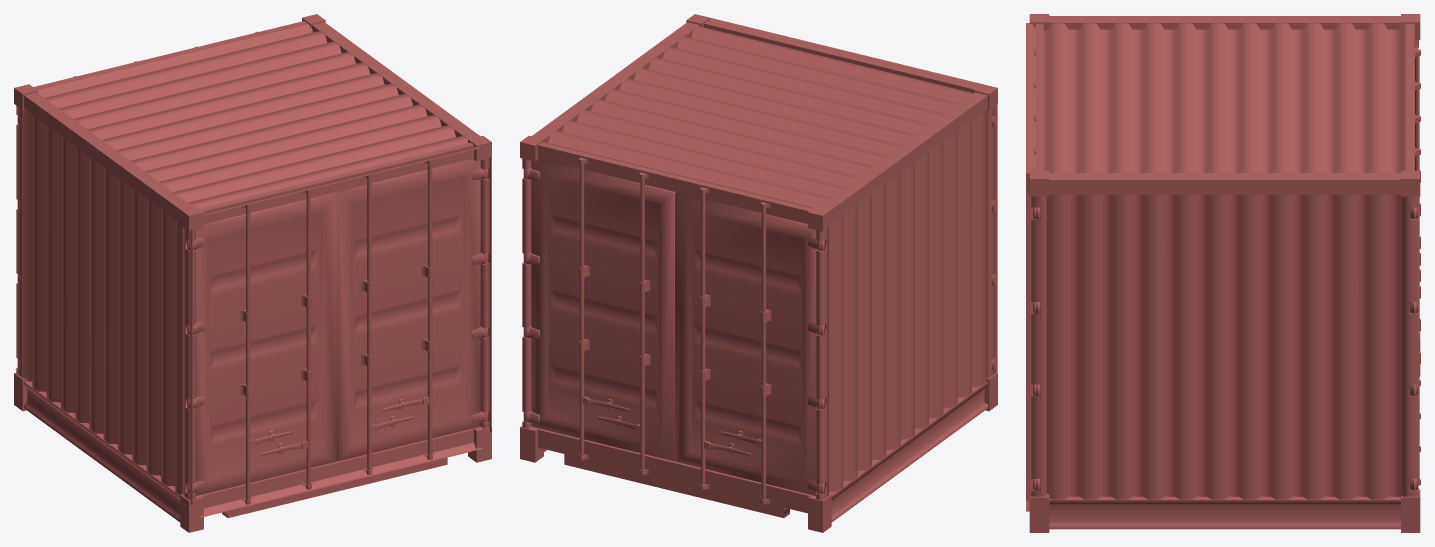
Rendered from shipping_container_sm.fbx.
3 renders of one model, left to right at view 1: azimuth 30°, elevation 25°; view 2: azimuth 150°, elevation 25°; view 3: azimuth 270°, elevation 25°, orthographic. The views are drawn at different scales.
Visible parts, largest first — view 1: shipping_container_sm; view 2: shipping_container_sm; view 3: shipping_container_sm.
Part boxes in pixels (x1,y1,x2,y2): shipping_container_sm: (14, 14, 491, 532); shipping_container_sm: (520, 14, 997, 532); shipping_container_sm: (1026, 14, 1420, 532).
Size of the model in its own units: 160 by 160 by 162.
